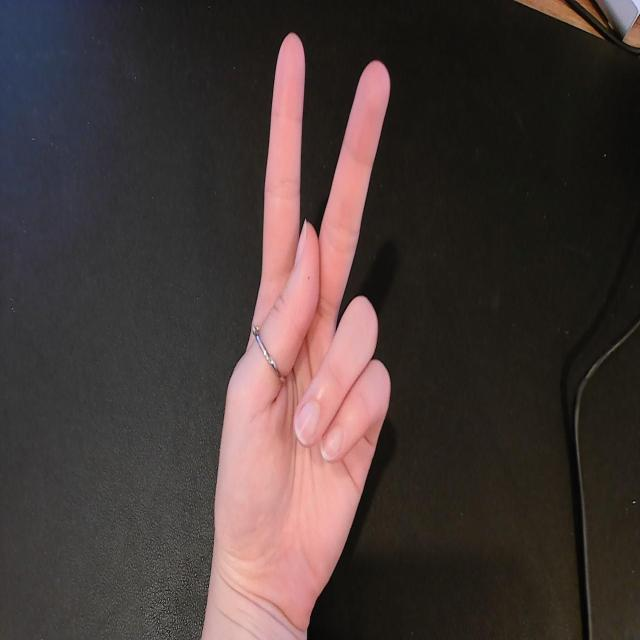K: (207, 27, 402, 618)
